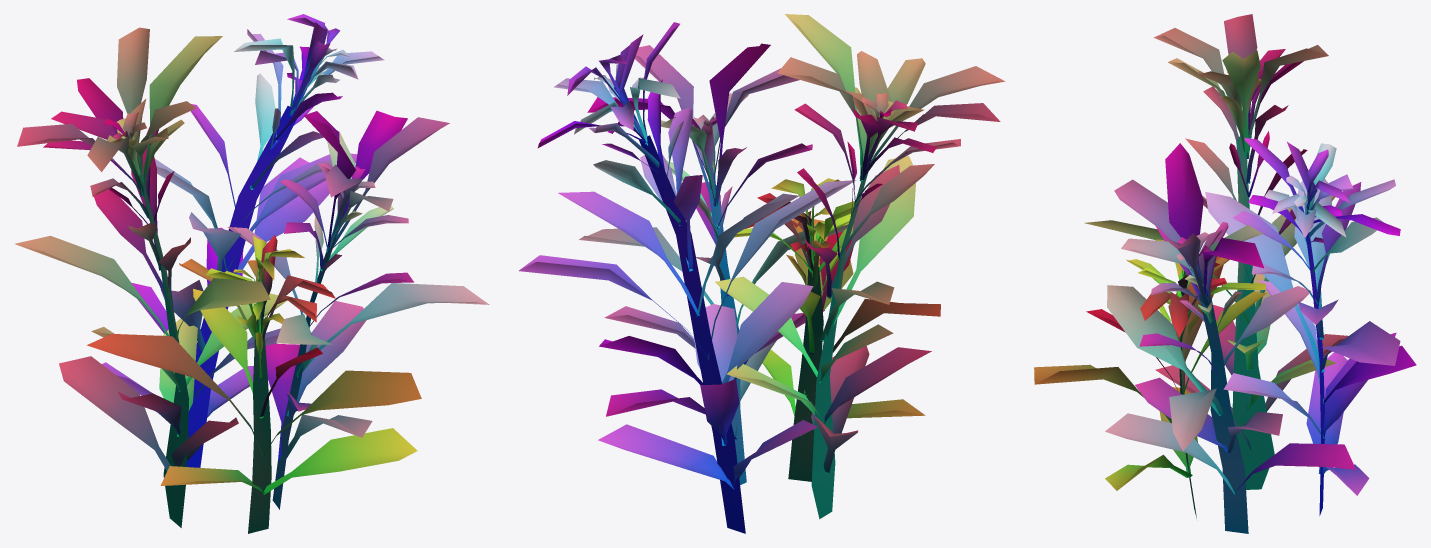
The model's file is Sage_ve3gbfoja_Mid_ve3gbfoja_VarG_LOD2.fbx.
3 renders of one model, left to right at view 1: azimuth 30°, elevation 25°; view 2: azimuth 150°, elevation 25°; view 3: azimuth 270°, elevation 25°, orthographic. The views are drawn at different scales.
Parts seen in each view (by area): view 1: _3zlc_VarG_LOD4; view 2: _3zlc_VarG_LOD4; view 3: _3zlc_VarG_LOD4.
Part boxes in pixels (x1,y1,x2,y2): _3zlc_VarG_LOD4: (15,14,489,533); _3zlc_VarG_LOD4: (519,14,1005,533); _3zlc_VarG_LOD4: (1034,14,1416,533).
Bounding box in the file's own units: 33.05 × 34.13 × 26.21.
